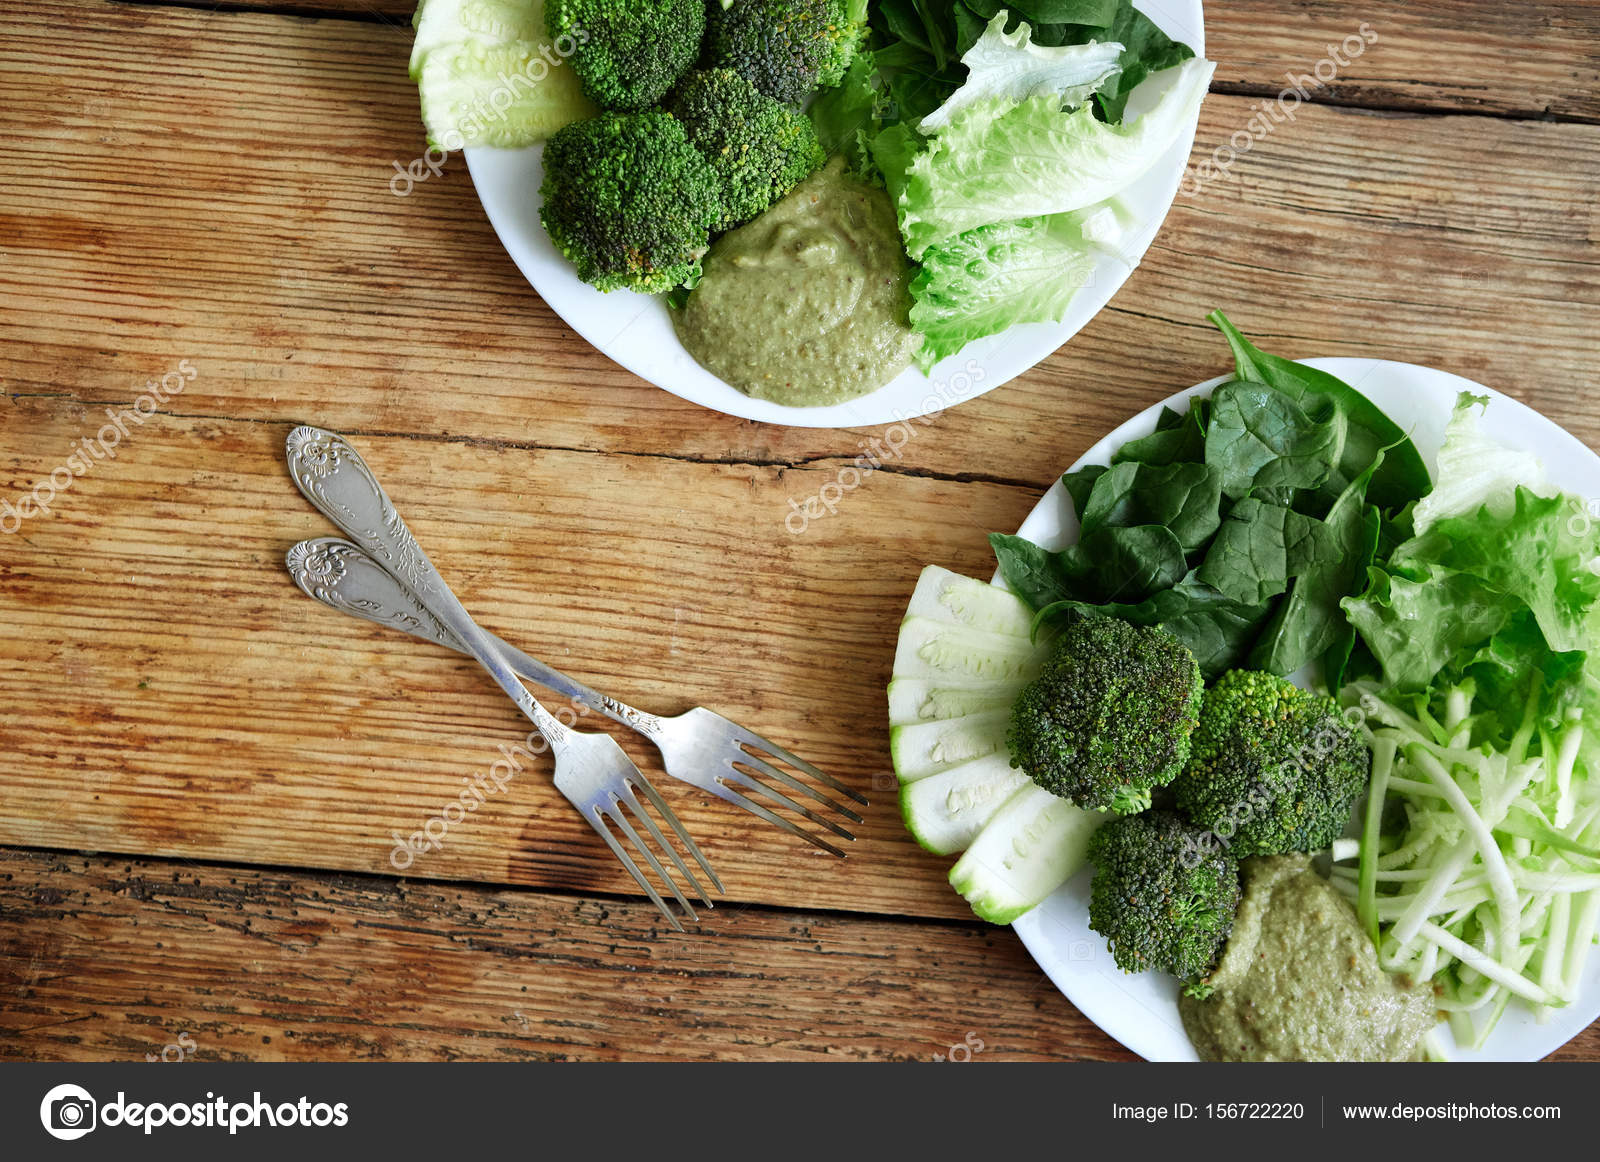chopped lettuce: (1220, 393, 1568, 1025)
